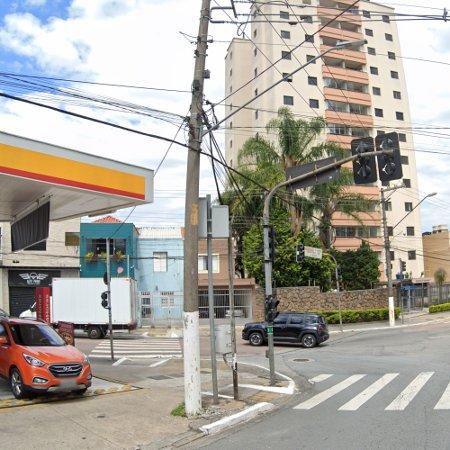crosswalks: (285, 367, 450, 417)
